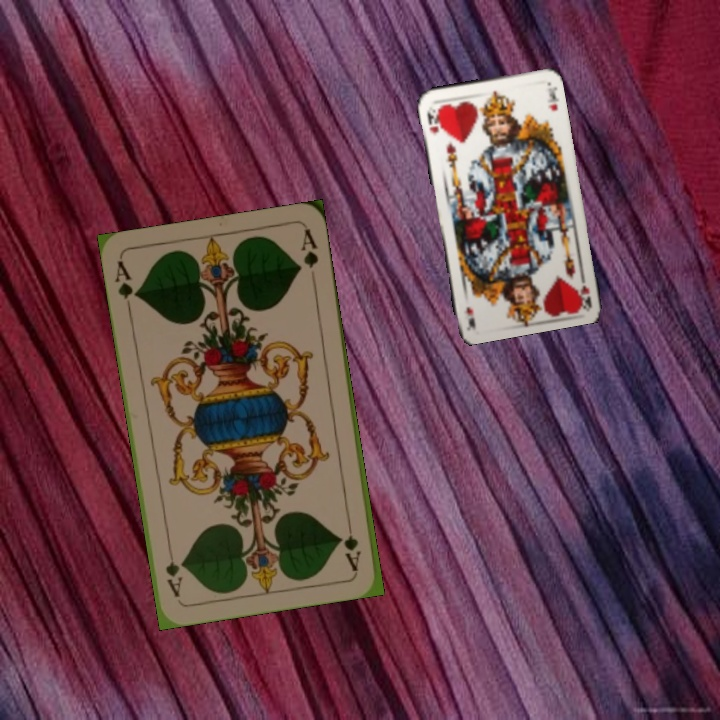GA: (111, 256, 141, 315), (340, 514, 364, 573)
HK: (576, 267, 594, 308), (423, 103, 444, 137)
